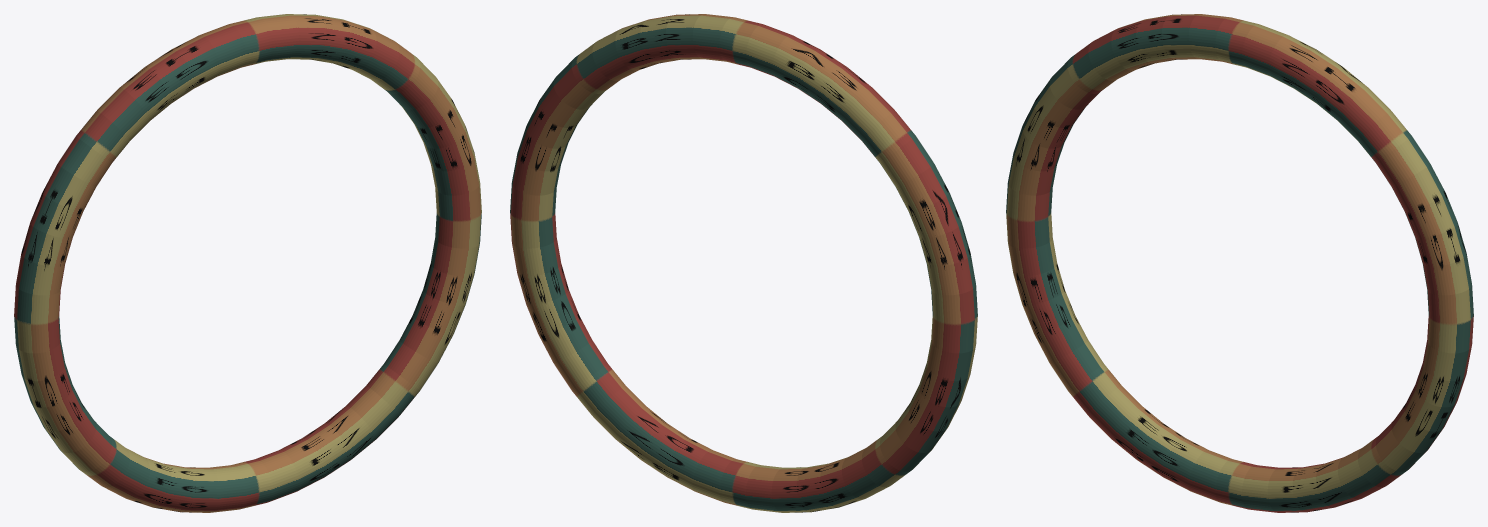
File: texture_torus_R26_r2.glb
3 renders of one model, left to right at view 1: azimuth 30°, elevation 25°; view 2: azimuth 150°, elevation 25°; view 3: azimuth 330°, elevation 25°, orthographic.
Visible parts, largest first — view 1: world; view 2: world; view 3: world.
Part boxes in pixels (x1,y1,x2,y2): world: [14, 14, 481, 512]; world: [510, 14, 977, 512]; world: [1006, 14, 1473, 512].
Size of the model in its own units: 29.87 by 29.81 by 2.53.
Materials: 1 (1 with a texture image).
